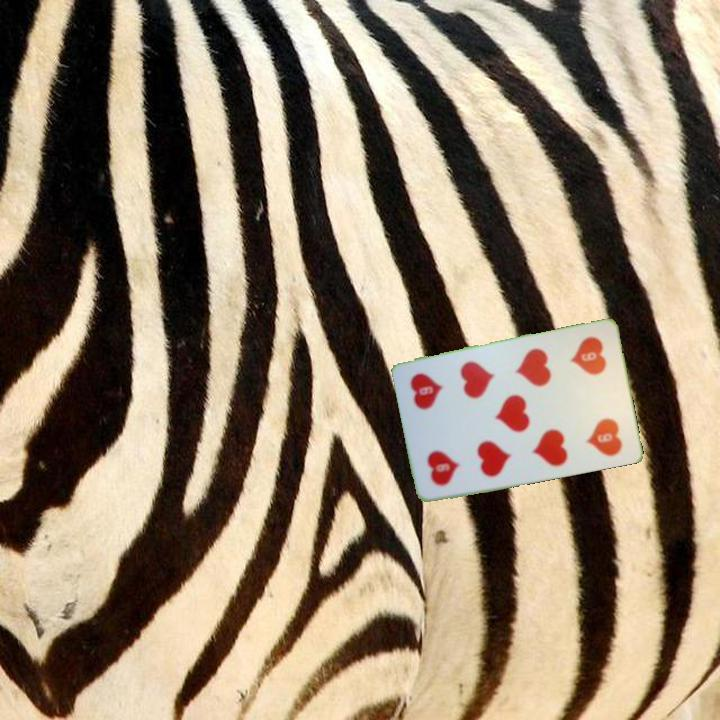h_9.png: (413, 418, 482, 494), (552, 328, 620, 404)
